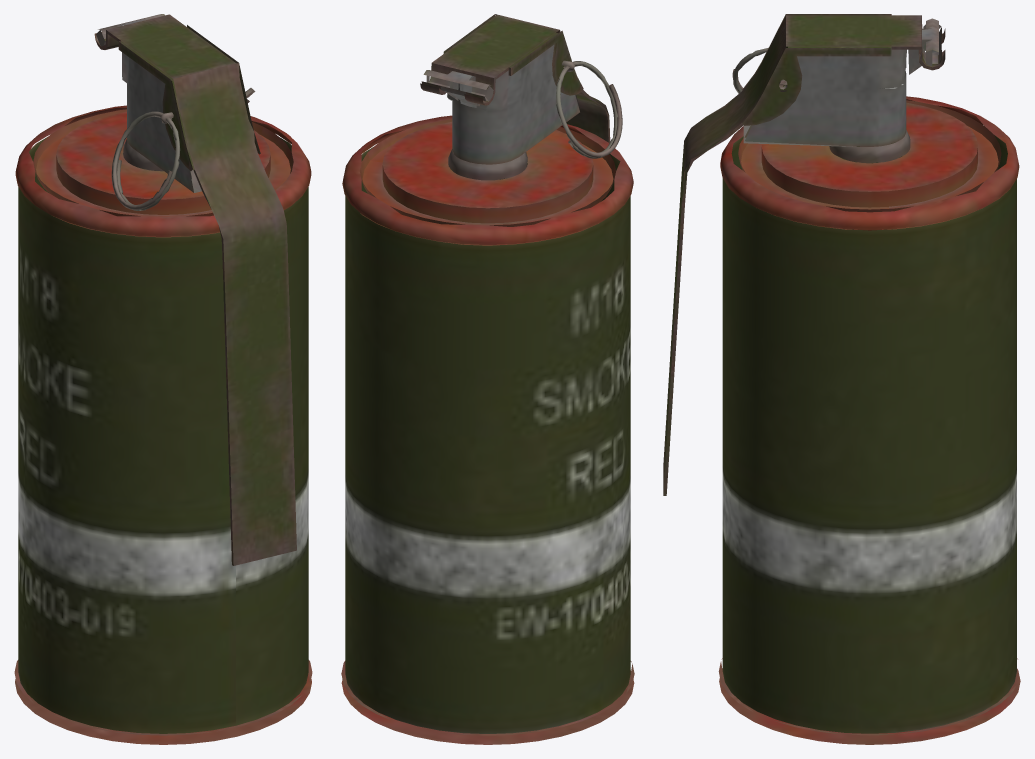
File: g_smoke_lo.glb
3 renders of one model, left to right at view 1: azimuth 30°, elevation 25°; view 2: azimuth 150°, elevation 25°; view 3: azimuth 270°, elevation 25°, orthographic. The views are drawn at different scales.
Parts seen in each view (by area): view 1: merged; view 2: merged; view 3: merged.
Boxes of the visible parts, x1=… form: merged: x1=14, y1=14, x2=312, y2=744; merged: x1=341, y1=14, x2=634, y2=744; merged: x1=663, y1=14, x2=1020, y2=744.
Bounding box in the file's own units: 0.8424 × 2 × 0.9957.
2 materials, 2 textured.
